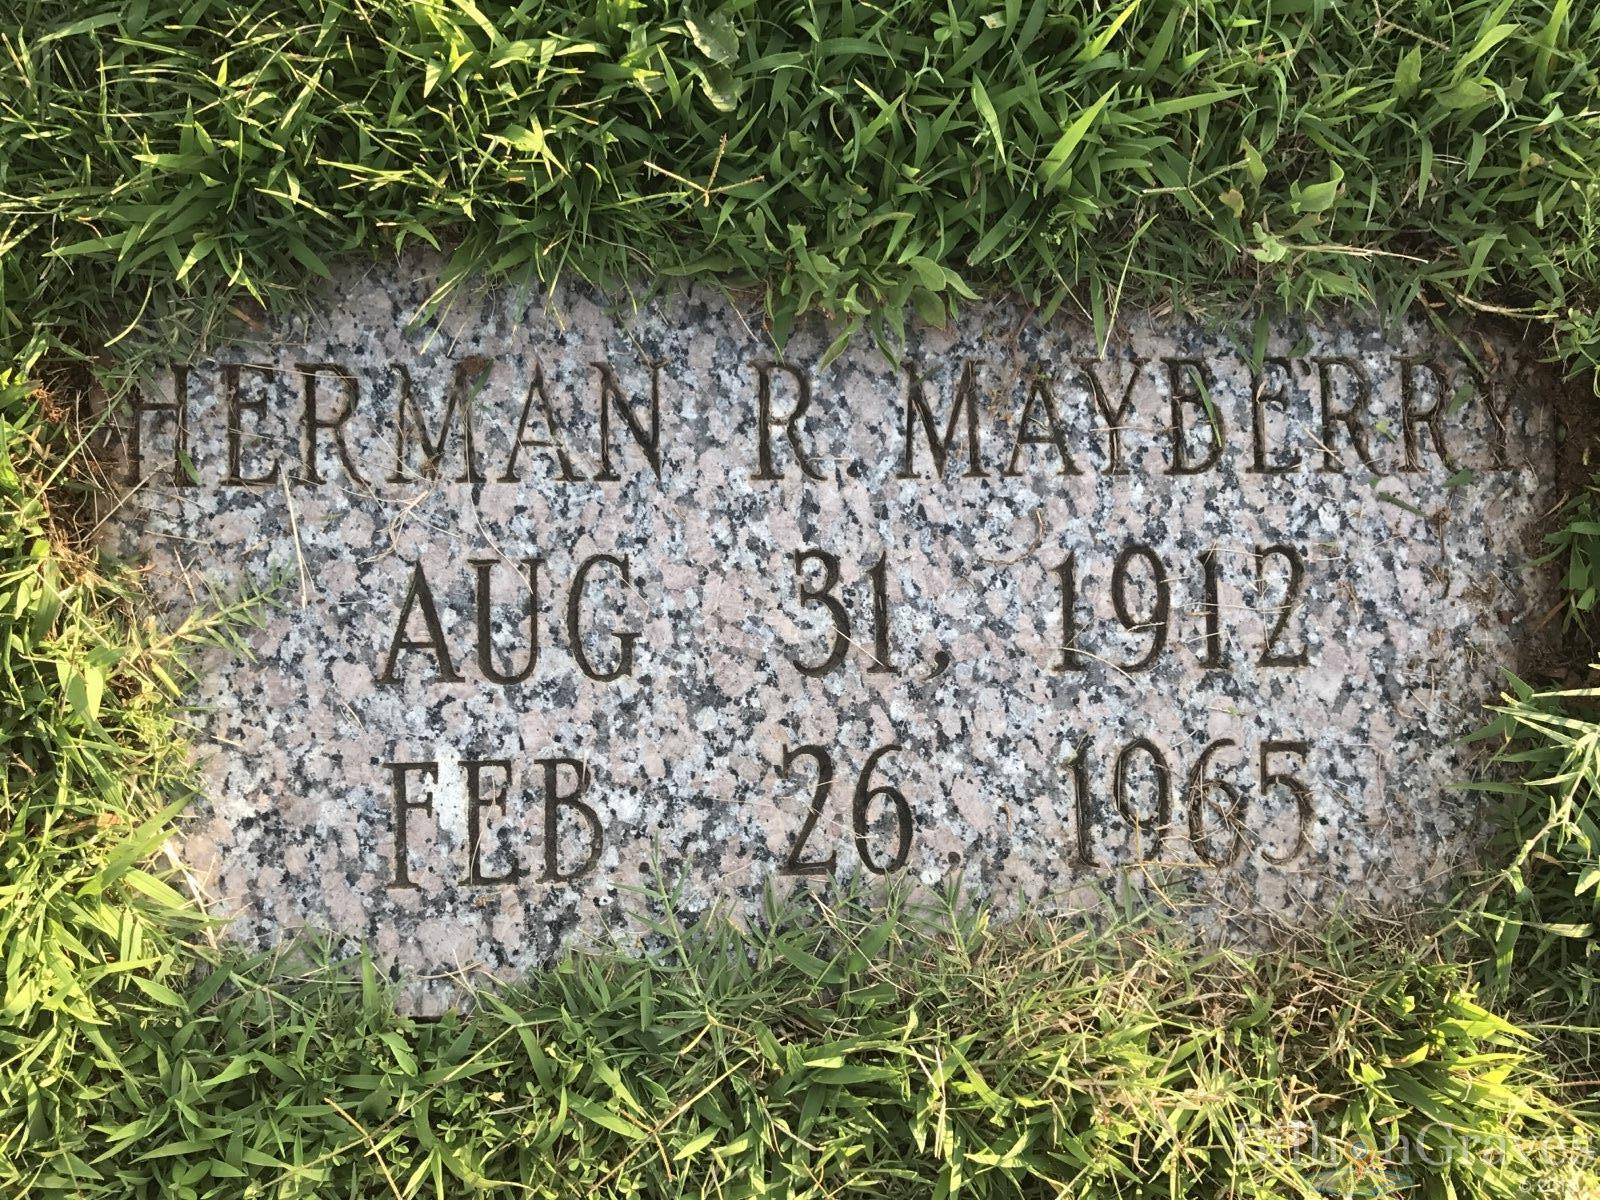flat: (73, 216, 1569, 1011)
